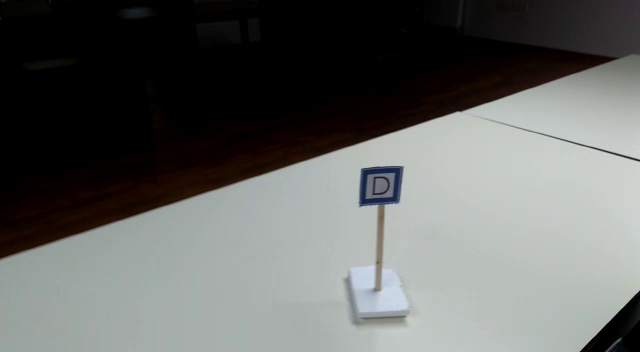durak: (359, 166, 400, 208)
